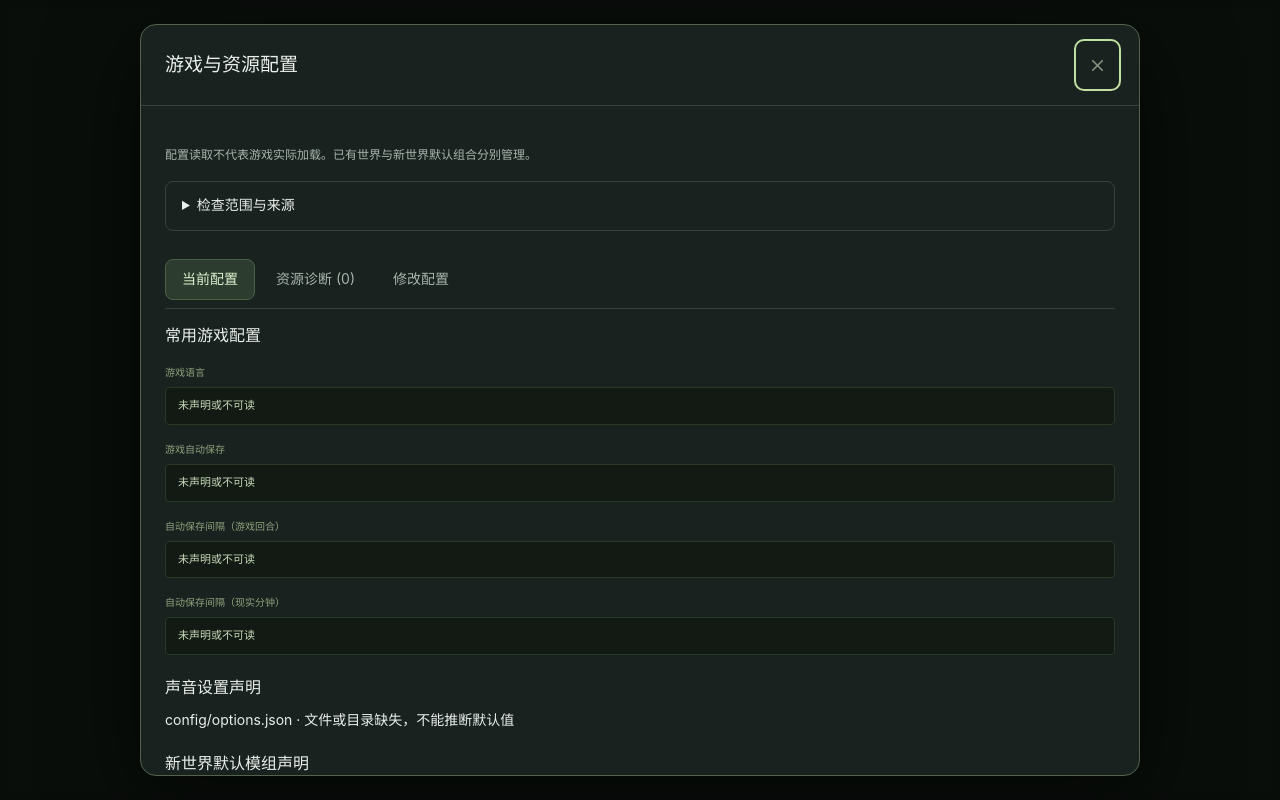
Scenario: shows ambiguous registrations without selecting a winner
Click the tab "资源诊断 (0)".
click(316, 280)  # box [259,259,372,300]
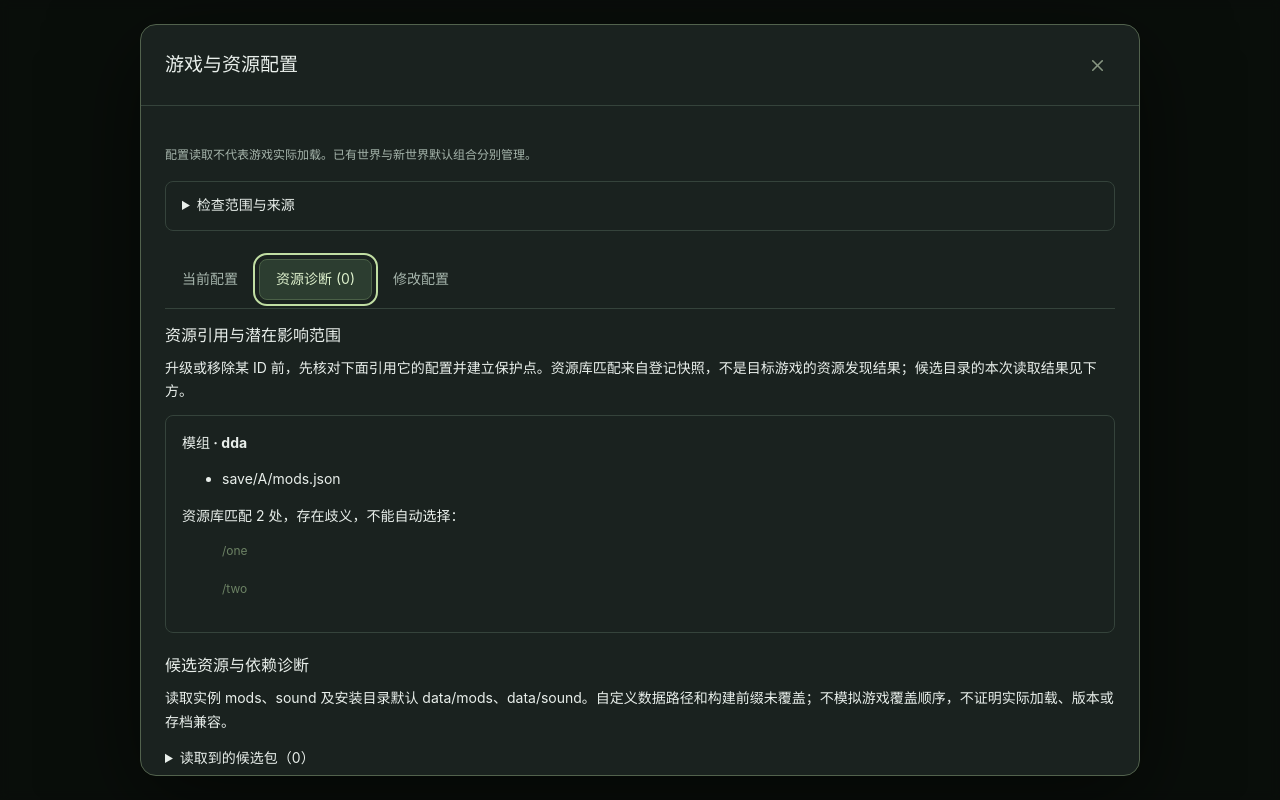
expect the text "资源库匹配 2 处，存在歧义，不能自动选择：" is shown: met, box [182,507,464,524]
